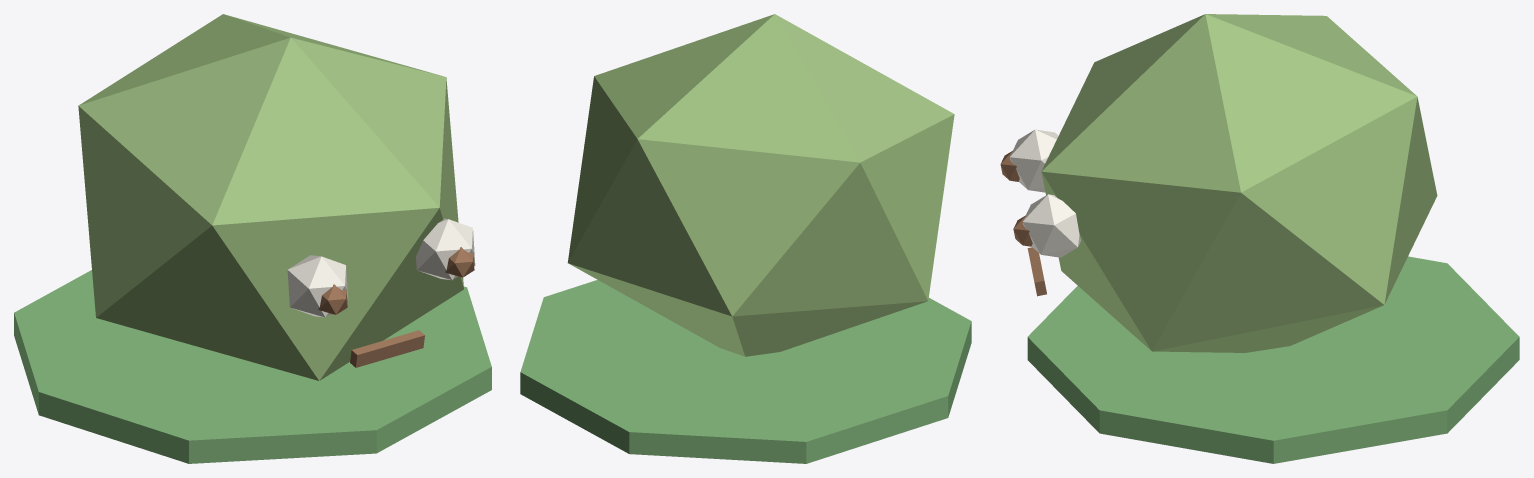
The model's file is npcpose_slime_walk_02.glb.
3 views of the same model, side by side, from view 1: azimuth 30°, elevation 25°; view 2: azimuth 150°, elevation 25°; view 3: azimuth 270°, elevation 25° (orthographic). The views are drawn at different scales.
Visible parts, largest first — view 1: npcpose; view 2: npcpose; view 3: npcpose.
Boxes of the visible parts, <box> form: npcpose: <box>14,14,491,463</box>; npcpose: <box>520,14,971,463</box>; npcpose: <box>1000,14,1519,463</box>.
Size of the model in its own units: 0.96 by 0.7488 by 1.01.
